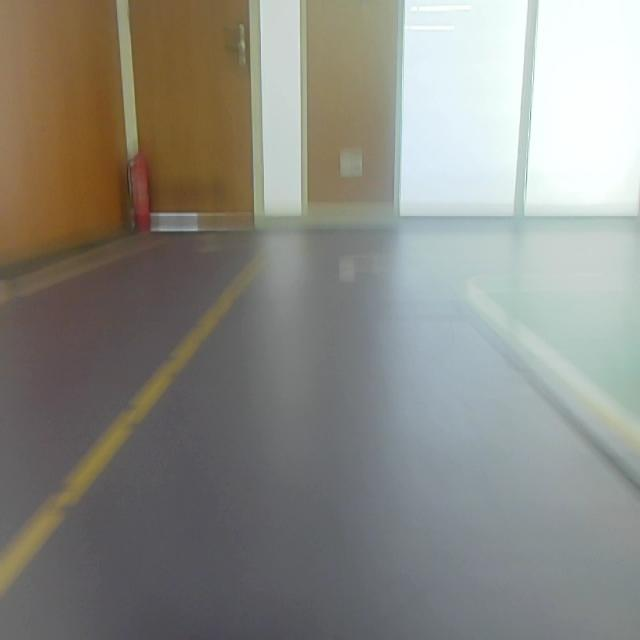left_lane: (0, 258, 263, 598)
right_lane: (471, 283, 640, 459)
